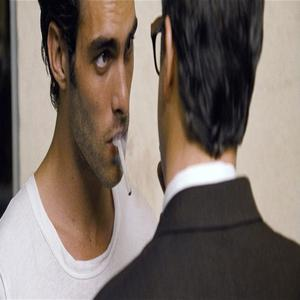cigarette: (112, 134, 136, 211)
